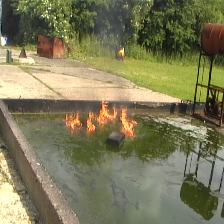fire_h: (97, 100, 116, 126), (120, 107, 137, 136)
fire_l: (65, 109, 81, 131), (87, 110, 95, 133)
